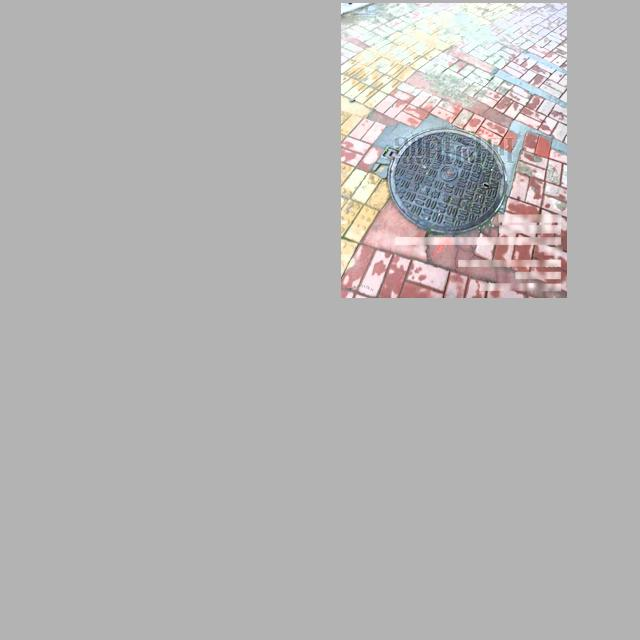good: (380, 127, 507, 234)
